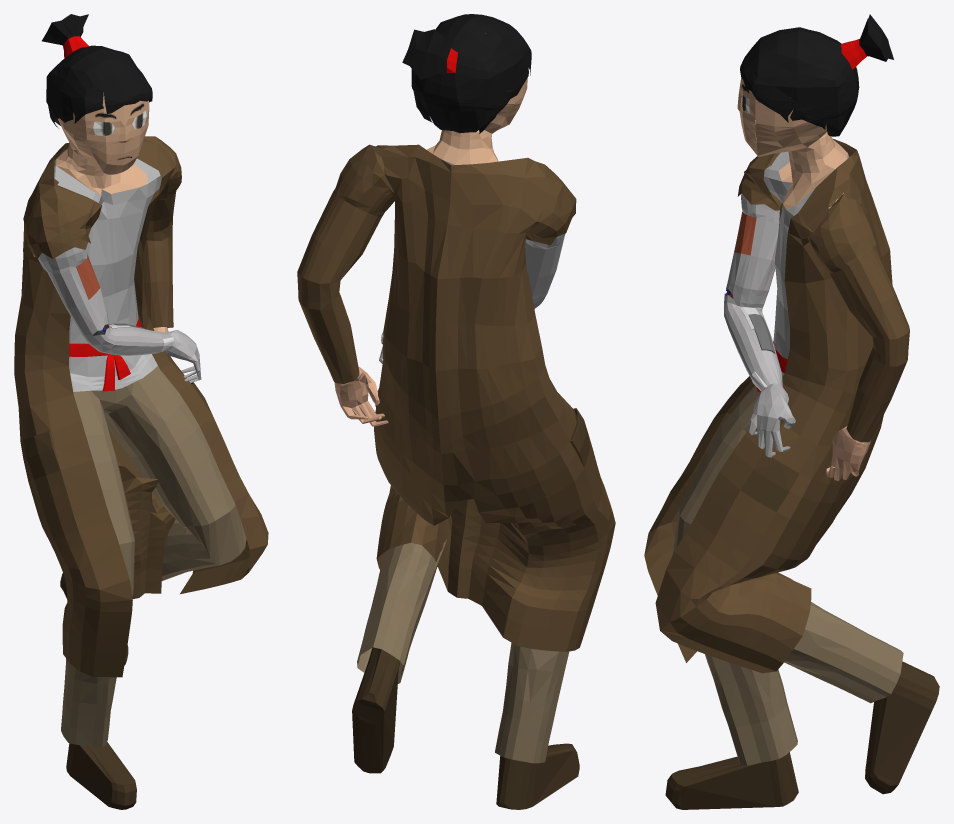
The model's file is One_RB_000018.obj.
3 renders of one model, left to right at view 1: azimuth 30°, elevation 25°; view 2: azimuth 150°, elevation 25°; view 3: azimuth 270°, elevation 25°, orthographic. The views are drawn at different scales.
Parts seen in each view (by area): view 1: Hair_Cube.004; view 2: Hair_Cube.004; view 3: Hair_Cube.004.
Boxes of the visible parts, box(x1,y1,x2,y2) form: Hair_Cube.004: box(14, 14, 268, 809); Hair_Cube.004: box(297, 14, 615, 809); Hair_Cube.004: box(644, 14, 939, 809).
Size of the model in its own units: 1.09 by 3.77 by 1.26.
